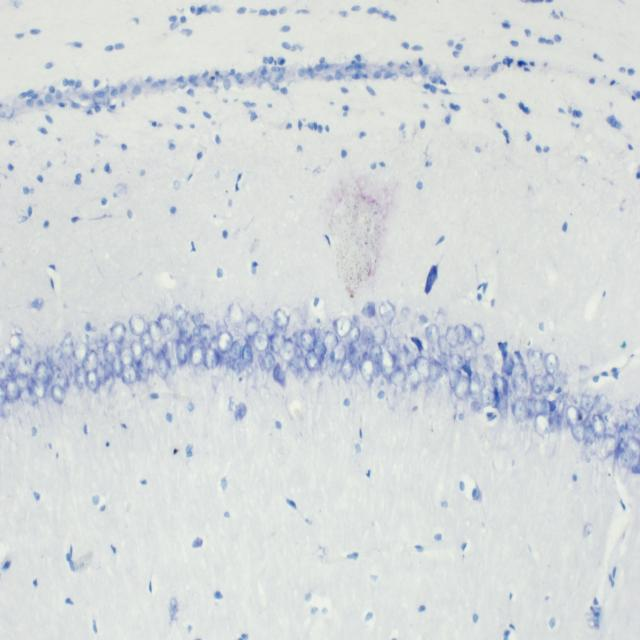neuron: (378, 348, 397, 381), (512, 363, 529, 395), (598, 432, 617, 460), (526, 345, 544, 373), (389, 366, 407, 392), (360, 354, 376, 383), (332, 315, 352, 338), (378, 300, 396, 324), (414, 355, 430, 382), (454, 374, 470, 401), (155, 350, 170, 378), (51, 344, 67, 370), (349, 342, 363, 371), (82, 349, 98, 374), (225, 354, 241, 379), (590, 413, 606, 438), (110, 320, 126, 344), (228, 303, 244, 327), (469, 323, 485, 347), (535, 413, 551, 437), (566, 404, 582, 428), (19, 387, 39, 406), (246, 312, 260, 339), (258, 350, 276, 371), (52, 368, 67, 393), (570, 421, 587, 443), (544, 353, 560, 376), (130, 339, 144, 365), (85, 370, 100, 394), (189, 344, 204, 368), (340, 358, 355, 382), (428, 358, 443, 382), (594, 394, 612, 414), (252, 331, 269, 352), (4, 380, 20, 402), (5, 350, 21, 372), (73, 342, 89, 364), (118, 345, 134, 367), (130, 313, 146, 335), (260, 316, 276, 338), (270, 332, 286, 354), (305, 350, 321, 372), (322, 331, 338, 353), (142, 348, 156, 373), (35, 361, 50, 384), (103, 341, 118, 364), (204, 348, 219, 371), (332, 341, 347, 364), (437, 335, 452, 358), (625, 435, 640, 458), (121, 364, 138, 384), (216, 332, 233, 352), (289, 354, 302, 380), (408, 363, 420, 391), (31, 377, 46, 399), (445, 326, 460, 348), (273, 362, 287, 385), (280, 338, 294, 361), (50, 385, 66, 405), (158, 314, 174, 334), (371, 325, 387, 345), (112, 353, 124, 379), (468, 377, 481, 401), (491, 372, 504, 396), (514, 398, 527, 422), (148, 320, 162, 342), (274, 308, 288, 330), (369, 343, 383, 365), (426, 323, 440, 345), (620, 448, 634, 470), (172, 303, 188, 322), (300, 331, 315, 351), (345, 325, 360, 345), (176, 339, 187, 366), (482, 384, 495, 406), (140, 330, 154, 350), (199, 324, 213, 344), (228, 340, 242, 360), (580, 393, 594, 413), (325, 358, 337, 381), (242, 343, 253, 368), (15, 373, 30, 391), (75, 367, 87, 389), (360, 324, 372, 346), (454, 324, 467, 344), (533, 399, 548, 416), (95, 362, 106, 385), (95, 332, 109, 350), (215, 317, 229, 335), (313, 339, 327, 357), (9, 334, 22, 353), (63, 335, 73, 359), (136, 361, 148, 381), (362, 302, 377, 318), (449, 368, 461, 388), (542, 374, 555, 392), (531, 375, 544, 393), (0, 361, 8, 390), (450, 352, 464, 368), (192, 311, 204, 327), (294, 342, 302, 358)
